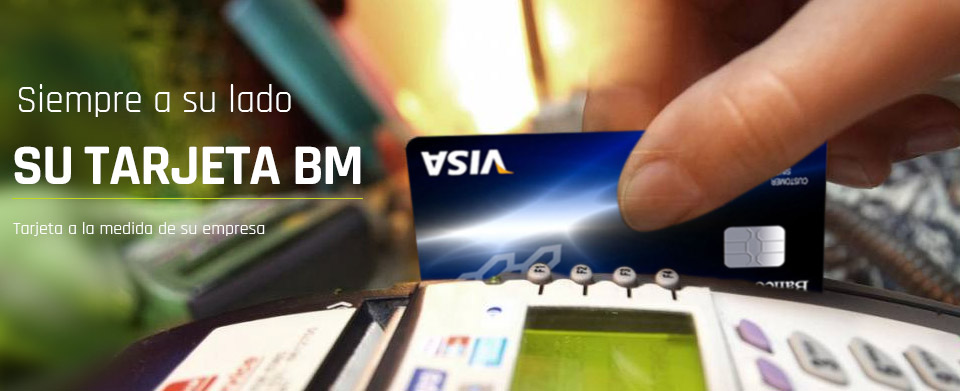tarjeta: (406, 130, 828, 296)
